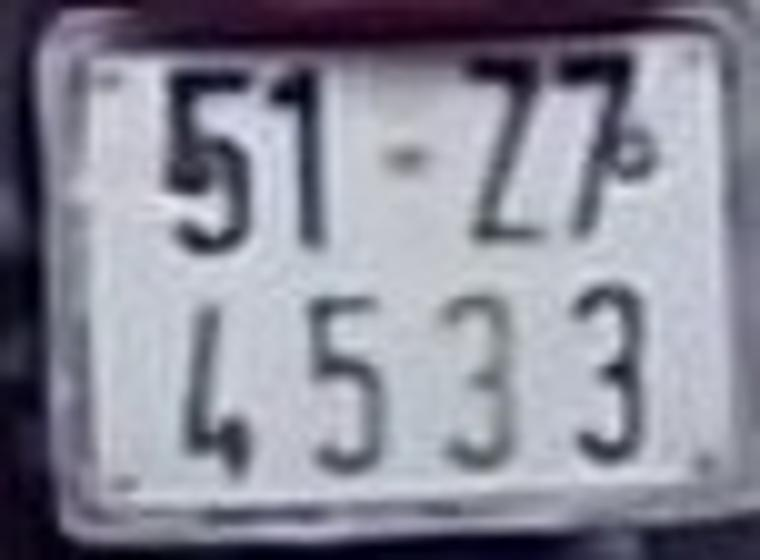-: (379, 139, 432, 181)
1: (264, 52, 351, 263)
3: (429, 284, 524, 476), (560, 276, 654, 468)
4: (179, 297, 259, 497)
5: (157, 56, 262, 260), (294, 285, 395, 487)
7: (549, 45, 643, 252)
Z: (462, 49, 547, 257)
